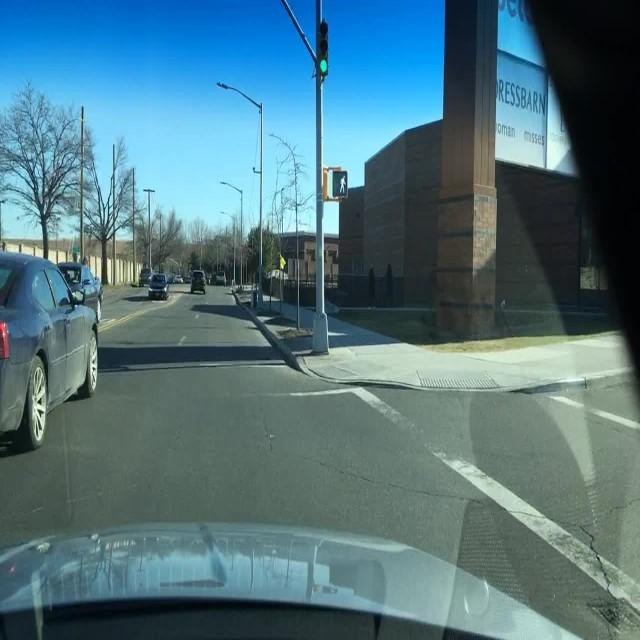normal: (0, 257, 98, 458), (144, 273, 168, 299), (188, 270, 206, 294)
